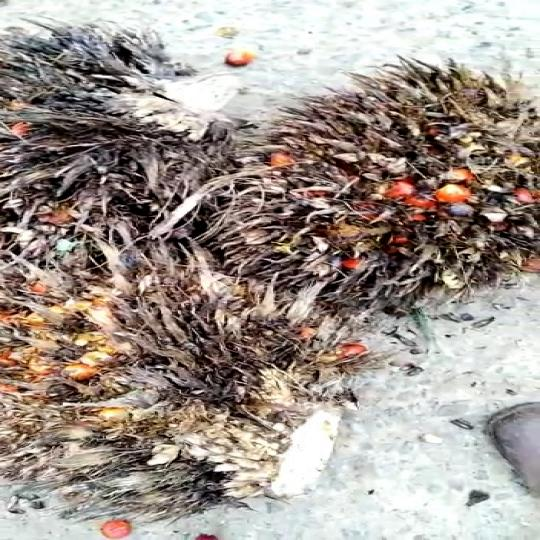terlalu masak: (0, 239, 370, 540), (224, 63, 540, 309)
